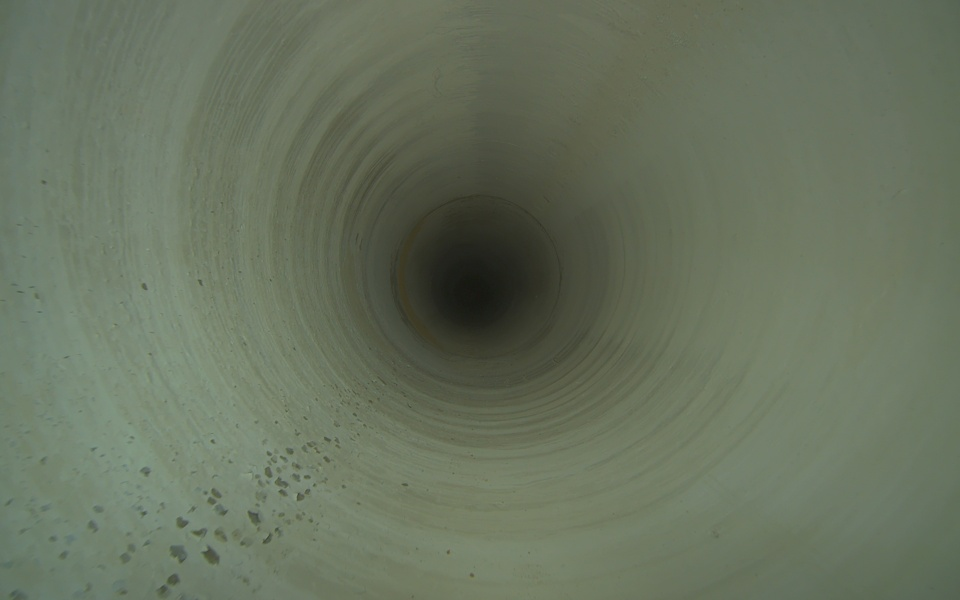circle1: (390, 192, 566, 367)
circle2: (457, 271, 493, 310)
